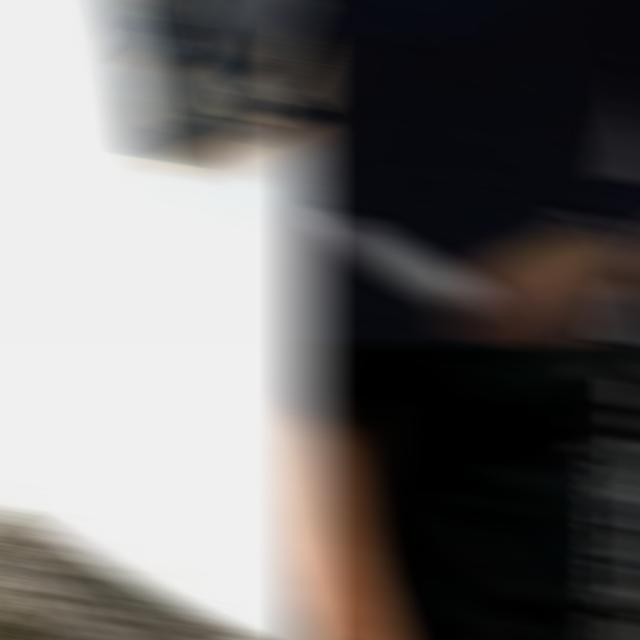Knife: (313, 208, 486, 326)
Knife_Handle: (314, 199, 632, 346)
